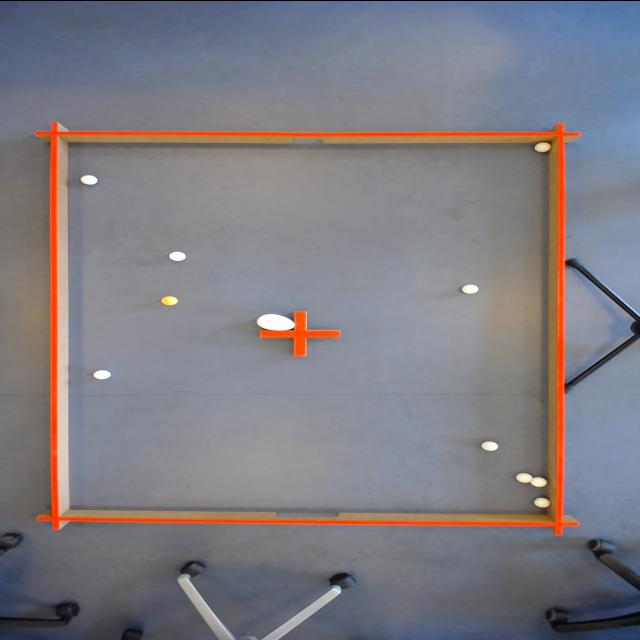cross: (258, 309, 343, 358)
egg: (256, 312, 296, 332)
orange_ball: (158, 294, 182, 306)
white_ball: (459, 281, 484, 295), (529, 494, 553, 508), (91, 367, 115, 381), (76, 173, 100, 186), (530, 140, 554, 152), (479, 440, 502, 452), (166, 250, 190, 260), (514, 470, 534, 482), (530, 476, 548, 488)
